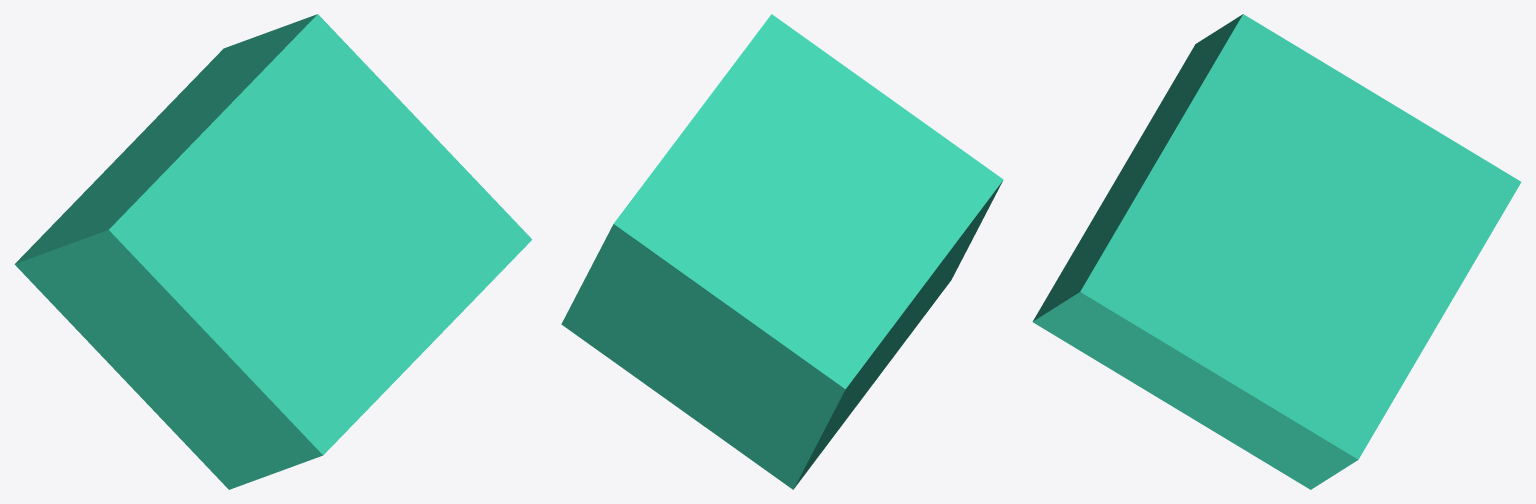
File: Tutorial1.fbx
3 renders of one model, left to right at view 1: azimuth 30°, elevation 25°; view 2: azimuth 150°, elevation 25°; view 3: azimuth 270°, elevation 25°, orthographic. The views are drawn at different scales.
Visible parts, largest first — view 1: Cube; view 2: Cube; view 3: Cube.
Part boxes in pixels (<box>): Cube: <box>14,14,532,489</box>; Cube: <box>561,14,1003,489</box>; Cube: <box>1032,14,1521,489</box>.
Bounding box in the file's own units: 300 × 341 × 300.
